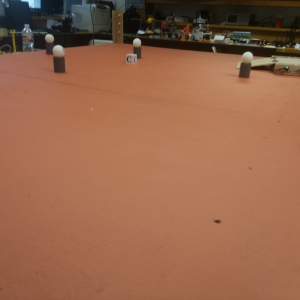blockC: (125, 55, 137, 66)
corner: (110, 13, 125, 43)
obstacle: (238, 52, 253, 78), (53, 45, 64, 74), (44, 33, 53, 53), (133, 39, 141, 57)
side: (275, 64, 300, 75)
slope: (240, 53, 274, 73)
